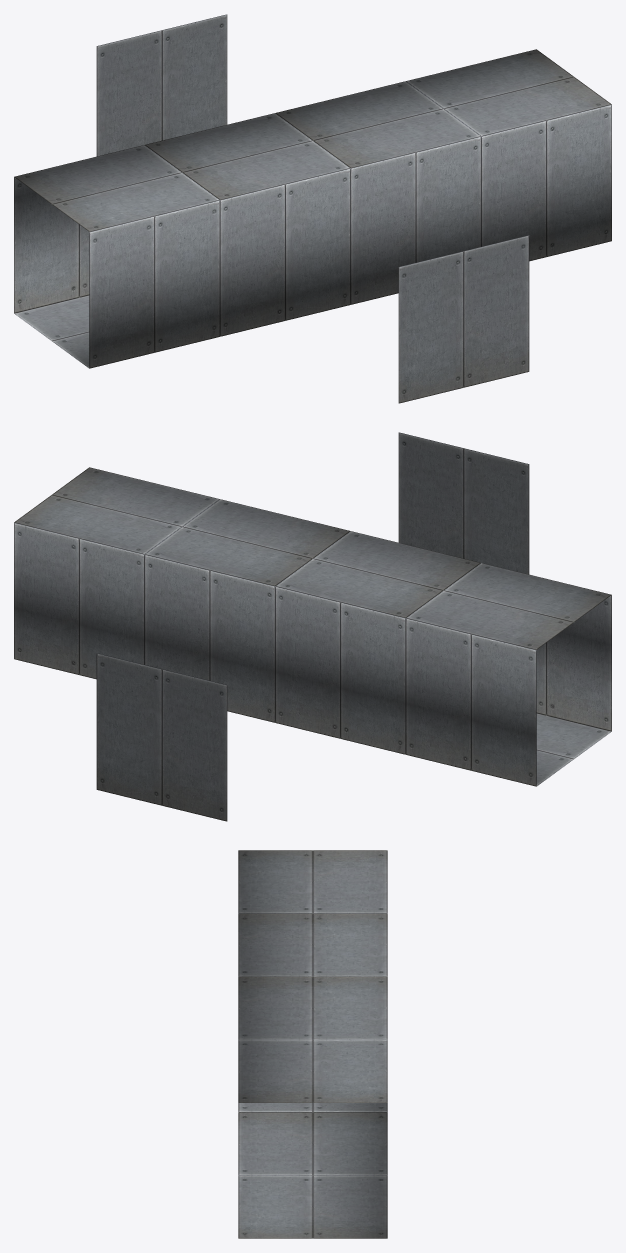
Rendered from EW corridor.fbx.
3 renders of one model, top to bottom at view 1: azimuth 30°, elevation 25°; view 2: azimuth 150°, elevation 25°; view 3: azimuth 270°, elevation 25°, orthographic.
Parts seen in each view (by area): view 1: Plane; view 2: Plane; view 3: Plane.
Part boxes in pixels (box(x1,y1,x2,y2)): Plane: box(14, 14, 611, 403); Plane: box(14, 432, 611, 821); Plane: box(238, 850, 387, 1238).
Size of the model in its own units: 16 by 4 by 16.
